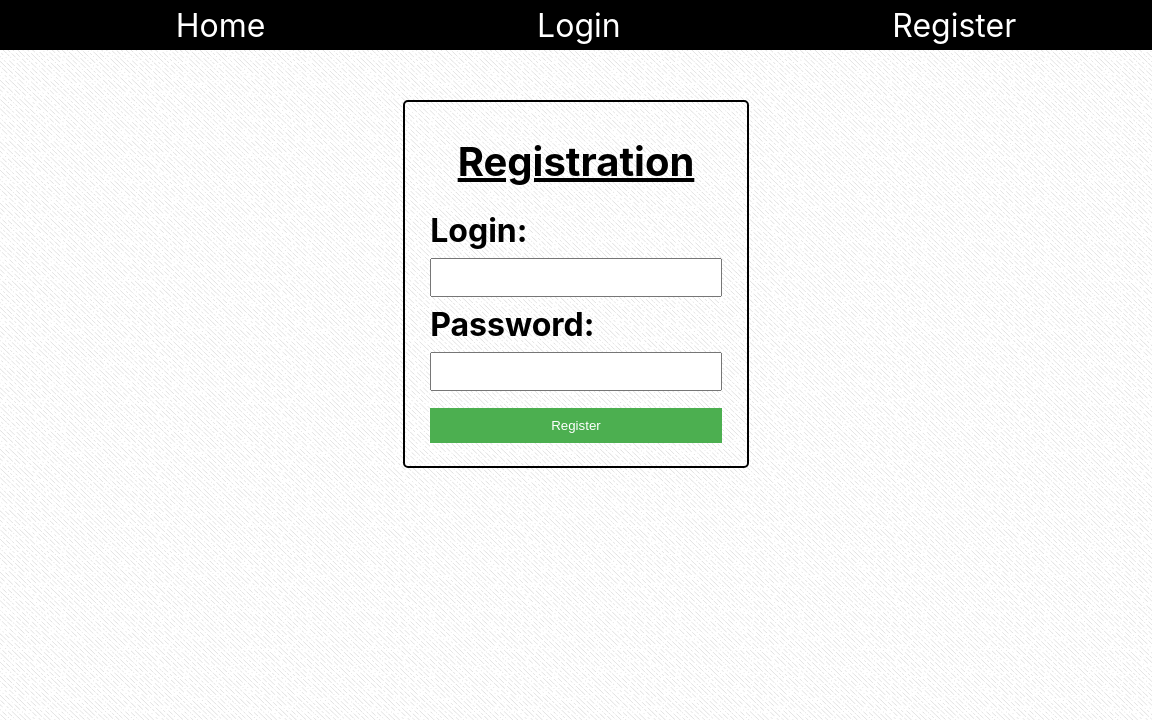
Test case: E2E with cypress › Test register form validate
The image size is (1152, 720).
Click the button "Register". click: (576, 426)
box: [430, 408, 722, 443]
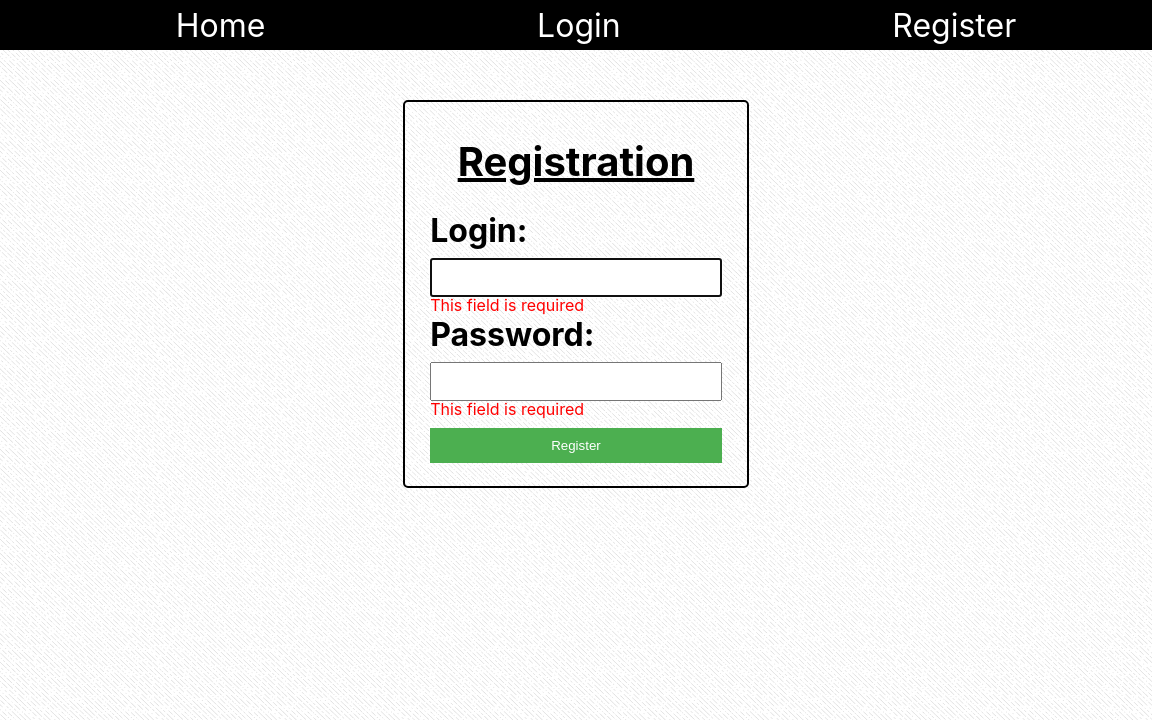
Check: the number of elements with class "error" is 2, box [430, 295, 584, 315]; [430, 399, 584, 419]
Check: the 1st text with class "error" reads "This field is required", box [430, 295, 584, 315]
Check: the 2nd text with class "error" reads "This field is required", box [430, 399, 584, 419]
Type "test" into the field named "login". click: (576, 278)
box: [430, 258, 722, 297]
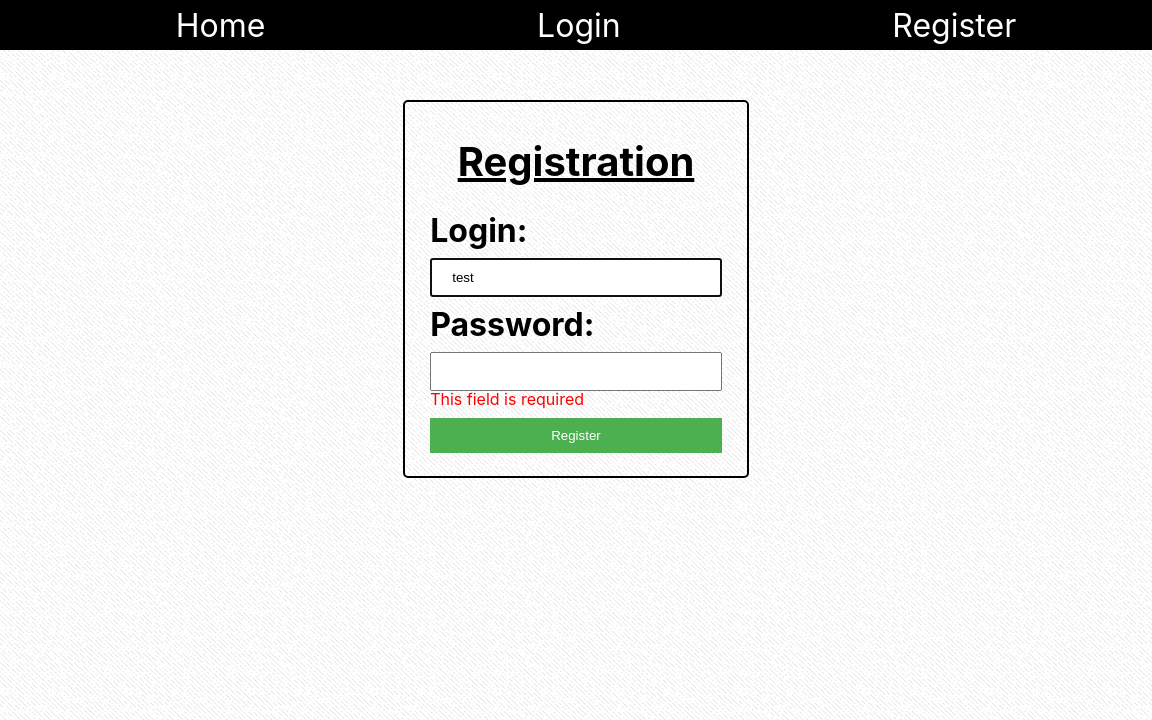
Check: the text with class "error" reads "This field is required", box [430, 389, 584, 409]
Check: the number of elements with class "error" is 1, box [430, 389, 584, 409]
